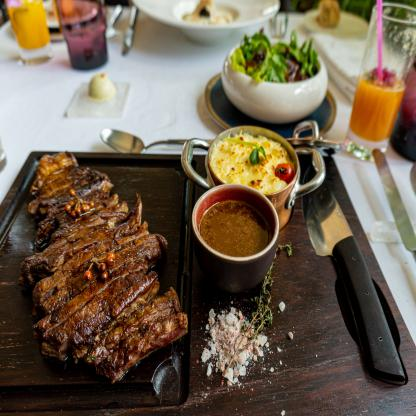Carne: (20, 152, 182, 378)
